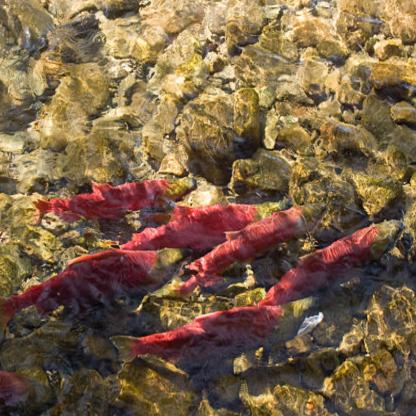sockeye: (264, 216, 405, 307), (186, 200, 328, 286), (36, 161, 198, 222), (19, 246, 156, 311), (124, 302, 283, 354), (128, 192, 260, 249)
sockeye-group: (30, 180, 402, 361)
